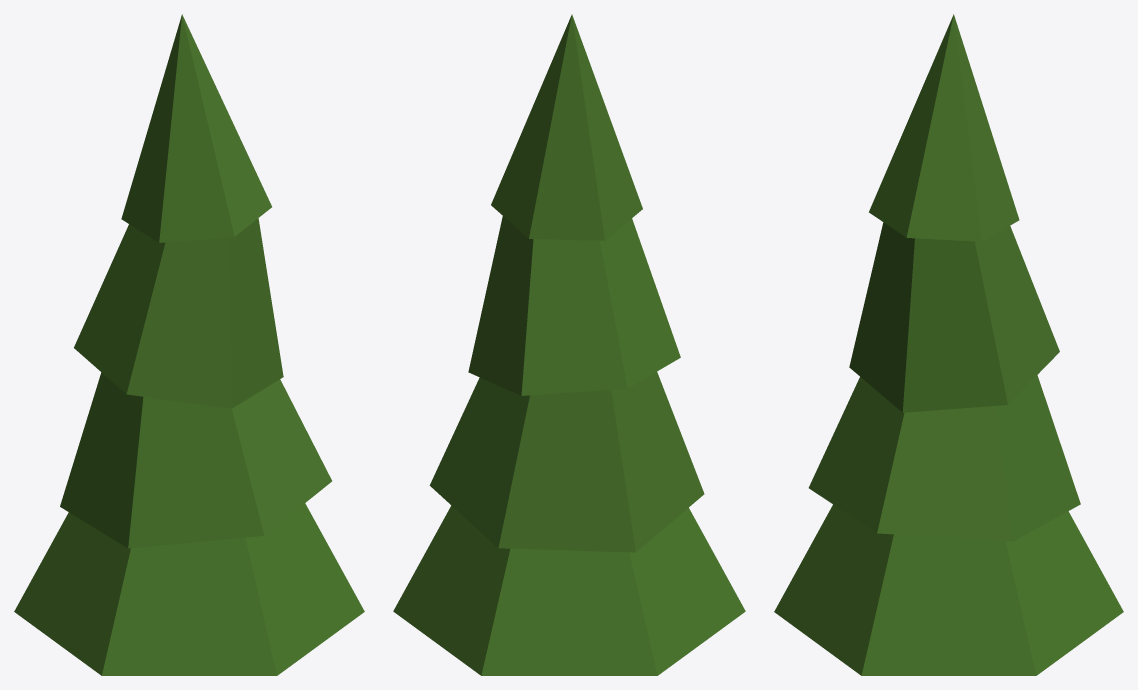
Rendered from tree_pineGroundB.glb.
3 renders of one model, left to right at view 1: azimuth 30°, elevation 25°; view 2: azimuth 150°, elevation 25°; view 3: azimuth 270°, elevation 25°, orthographic.
Visible parts, largest first — view 1: tree_pineGroundB; view 2: tree_pineGroundB; view 3: tree_pineGroundB.
Part boxes in pixels (<box>): tree_pineGroundB: <box>14,14,364,675</box>; tree_pineGroundB: <box>393,14,745,675</box>; tree_pineGroundB: <box>774,14,1123,675</box>.
Bounding box in the file's own units: 0.4804 × 1.04 × 0.5547.
